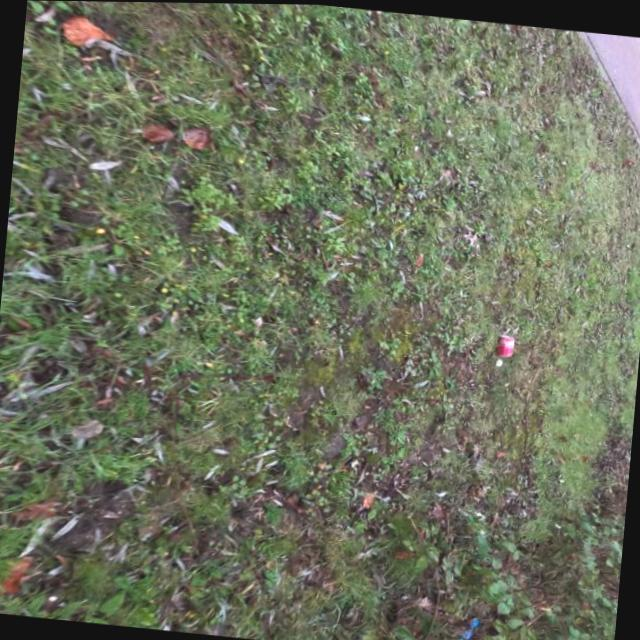Can-Metal: (494, 332, 518, 356)
Plastic: (457, 613, 479, 640)
